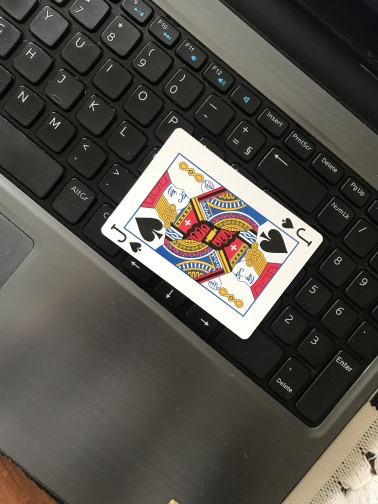jack: (99, 126, 325, 343)
